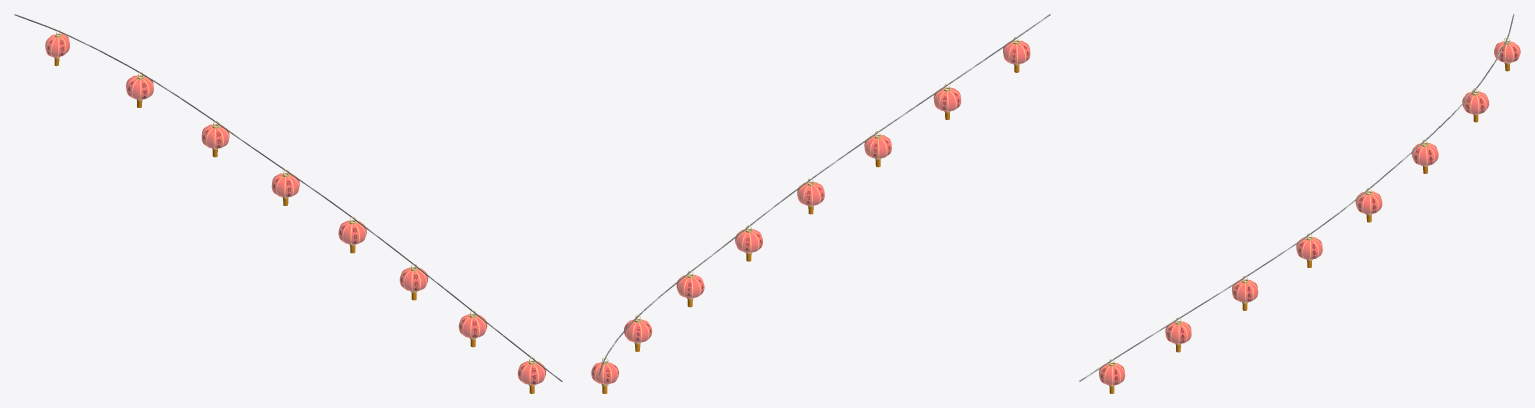
The model's file is SM_lamp_spline_Splines_13.fbx.
3 views of the same model, side by side, from view 1: azimuth 30°, elevation 25°; view 2: azimuth 150°, elevation 25°; view 3: azimuth 330°, elevation 25° (orthographic). The views are drawn at different scales.
Visible parts, largest first — view 1: SM_lamp_spline_Splines_13; view 2: SM_lamp_spline_Splines_13; view 3: SM_lamp_spline_Splines_13.
Part boxes in pixels (x1,y1,x2,y2): SM_lamp_spline_Splines_13: (14,14,562,393); SM_lamp_spline_Splines_13: (591,14,1050,393); SM_lamp_spline_Splines_13: (1079,14,1520,393).
Bounding box in the file's own units: 163 × 1943 × 107.
